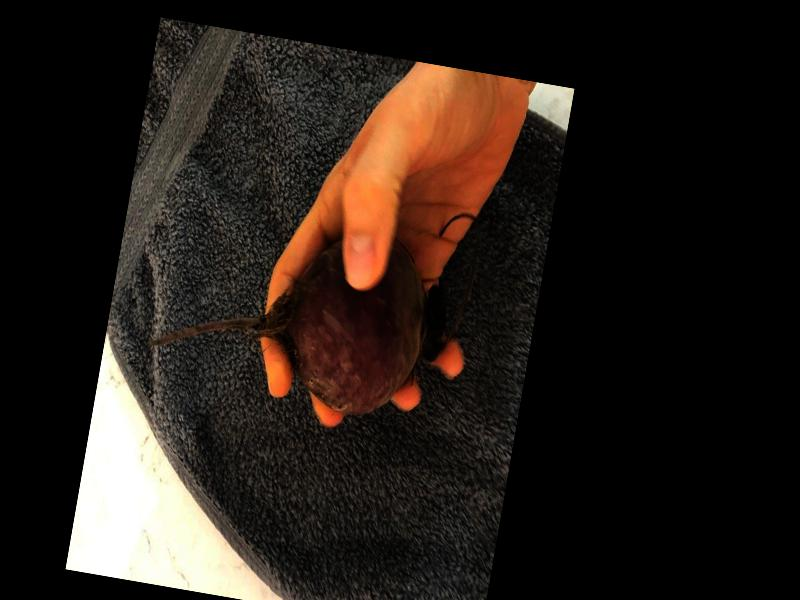Beet: (140, 199, 457, 428)
